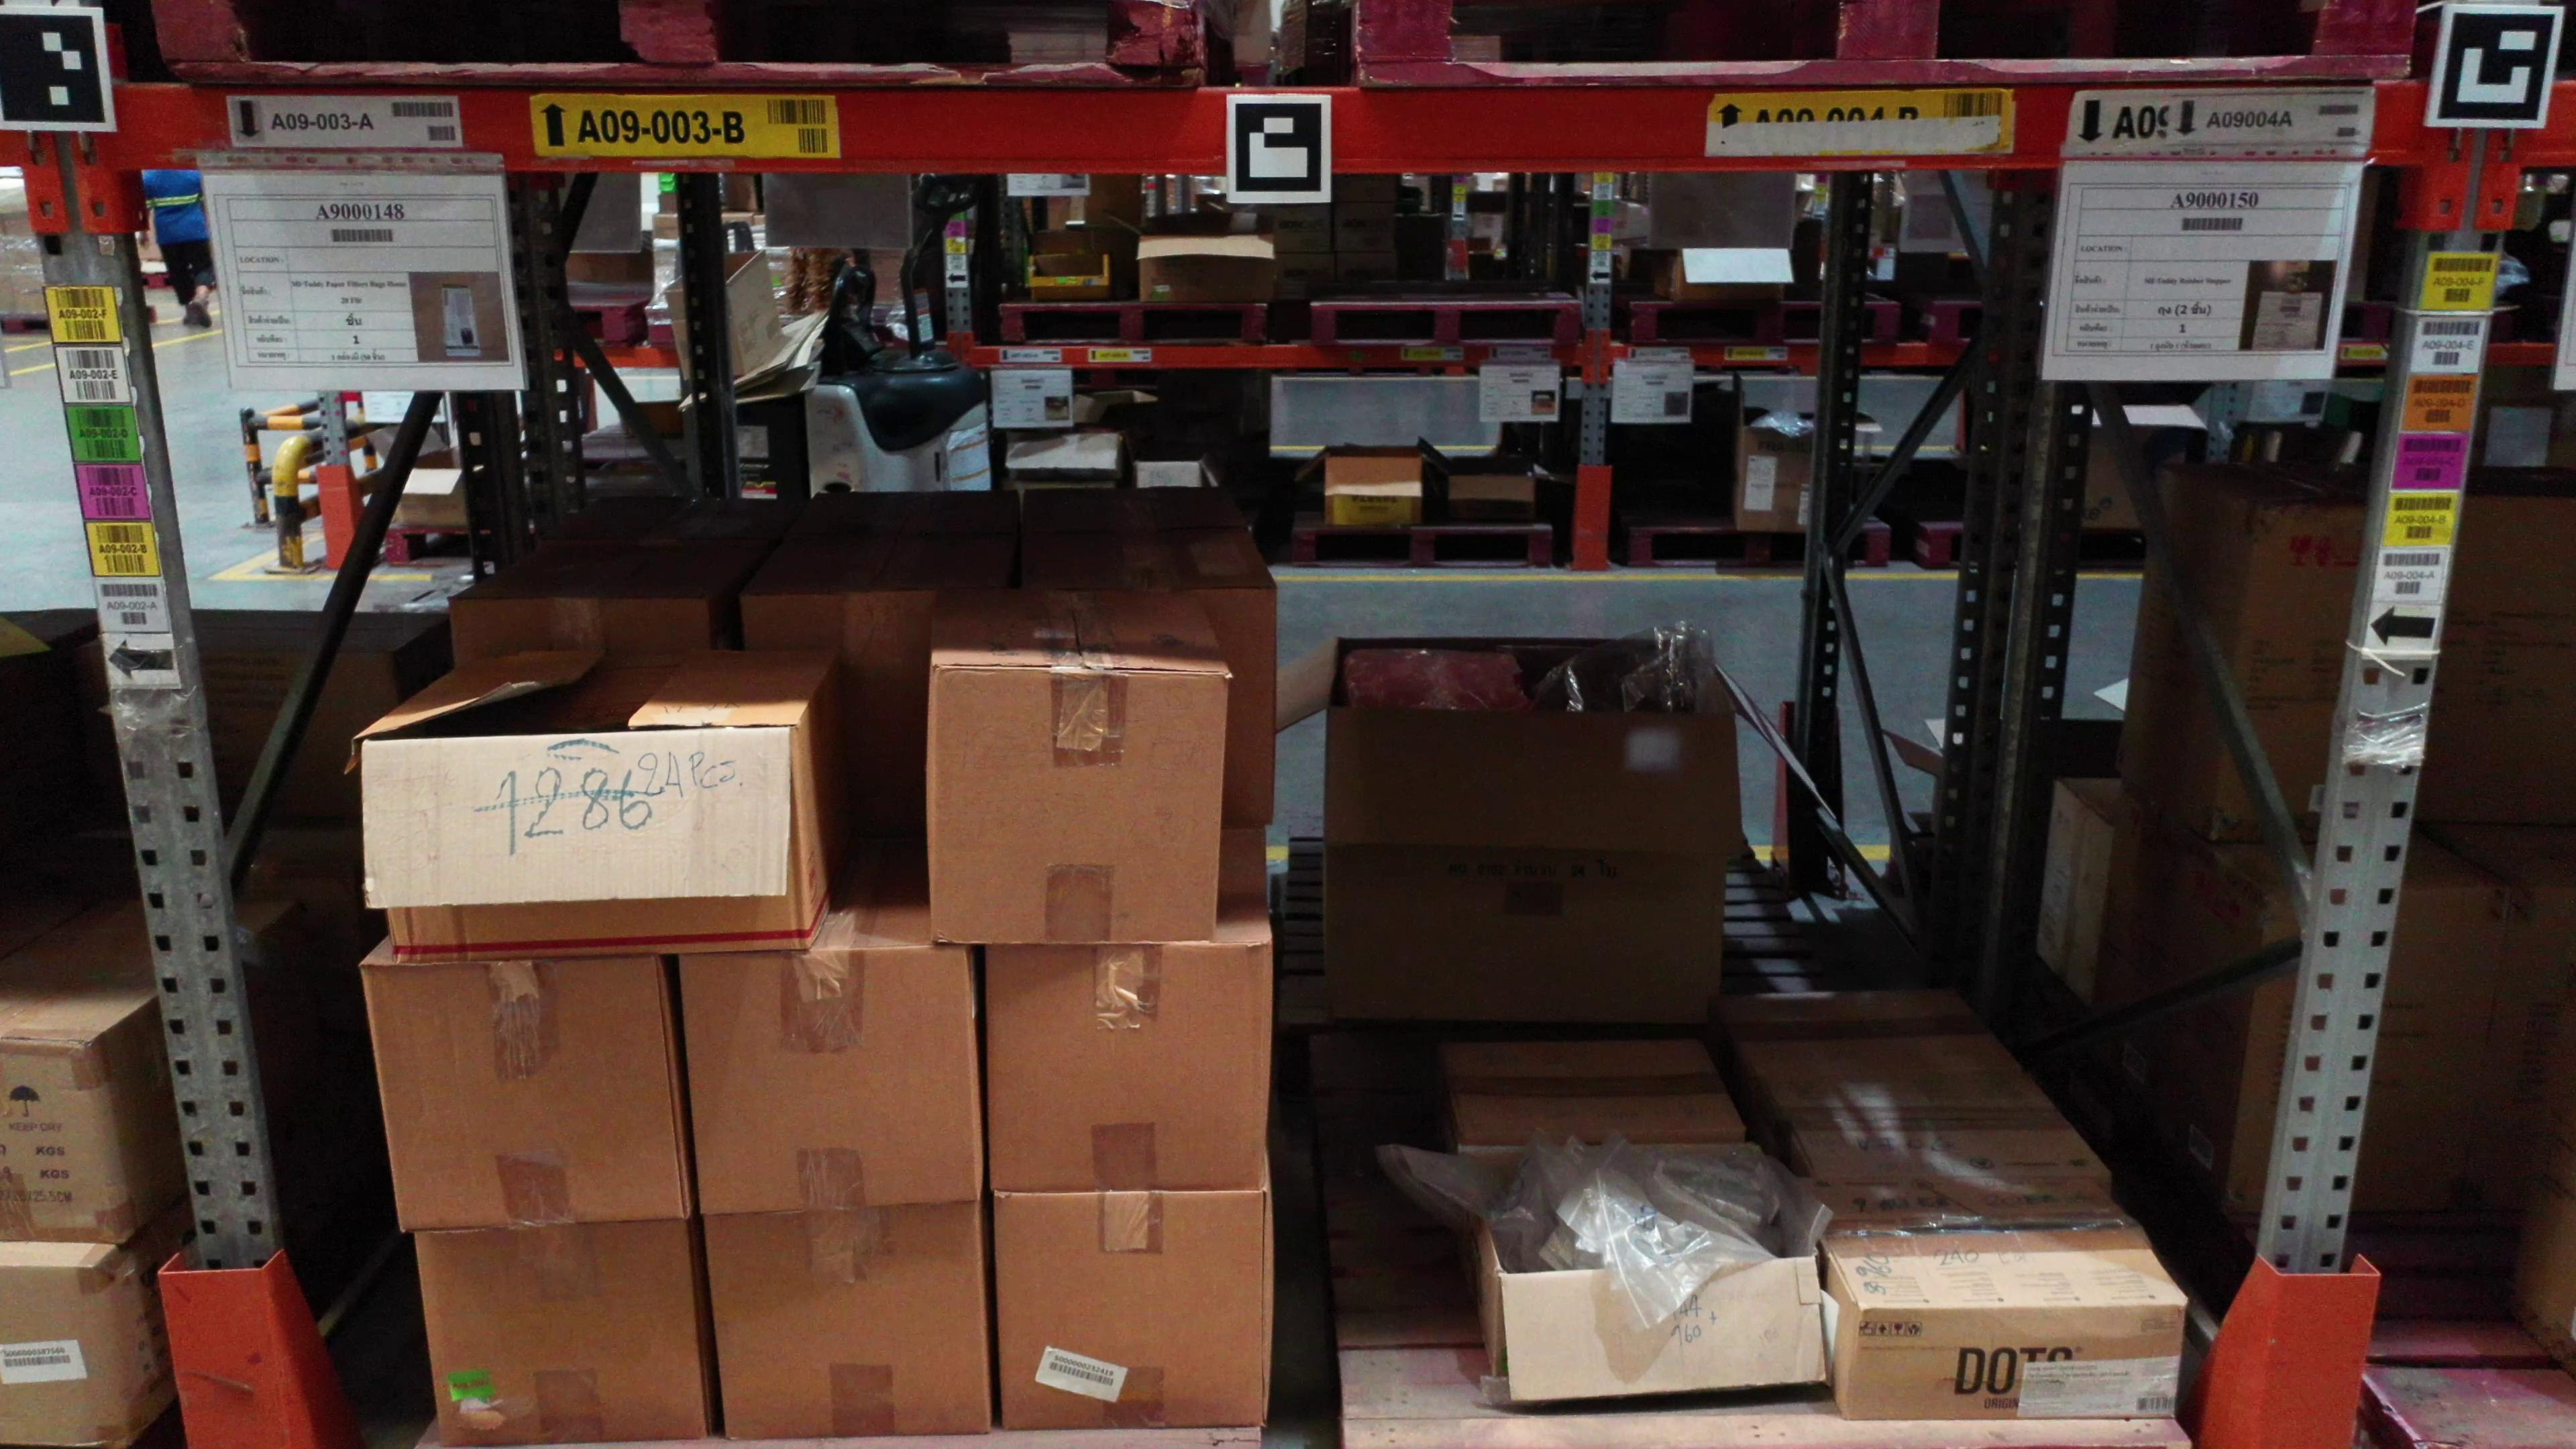-: (366, 731, 807, 961), (359, 950, 688, 1231), (932, 662, 1231, 948), (678, 947, 982, 1217), (989, 941, 1270, 1194), (993, 1189, 1270, 1430), (412, 1223, 709, 1447), (702, 1208, 991, 1438), (1493, 1263, 1822, 1407), (1845, 1304, 2180, 1421), (0, 1040, 127, 1246), (0, 1265, 129, 1447)
box: (1325, 713, 1730, 1023)
